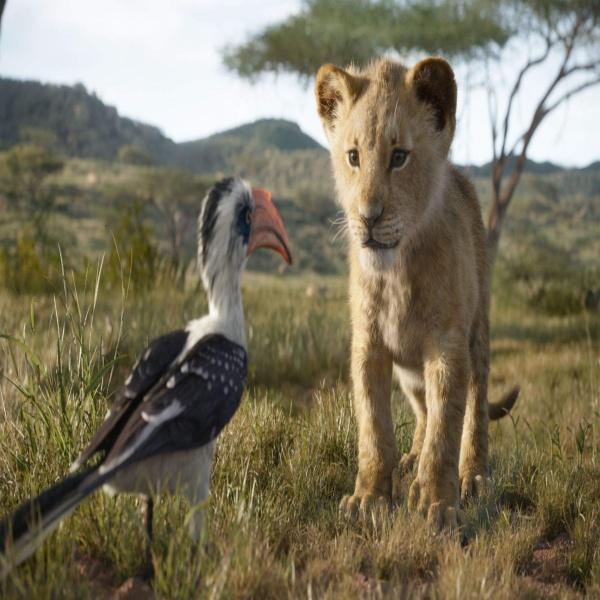Lion: (312, 54, 526, 528)
